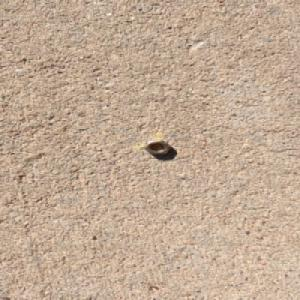Nut: (143, 139, 171, 155)
